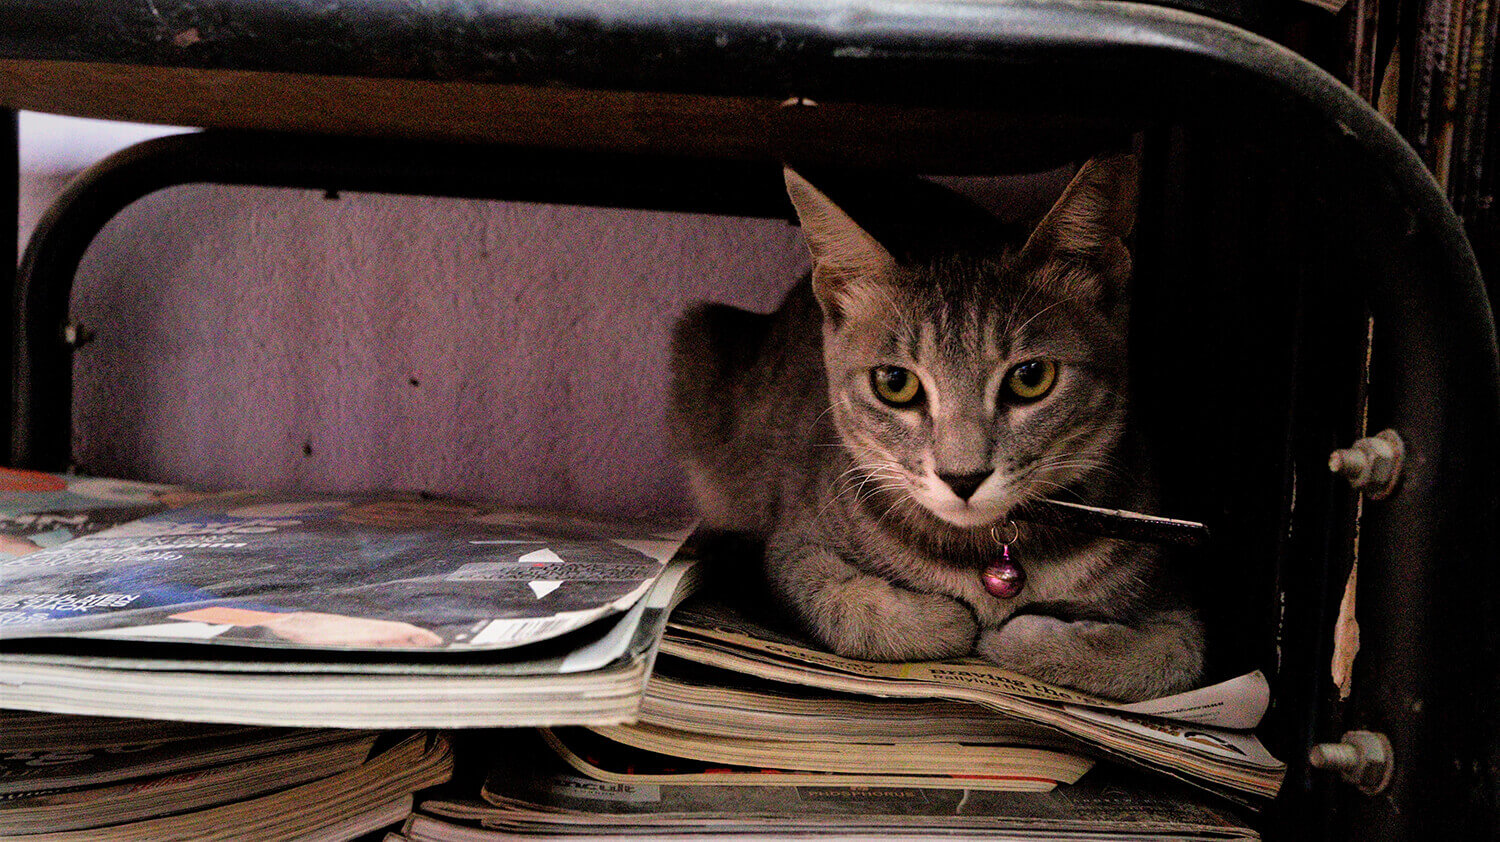cat: (623, 133, 1277, 725)
